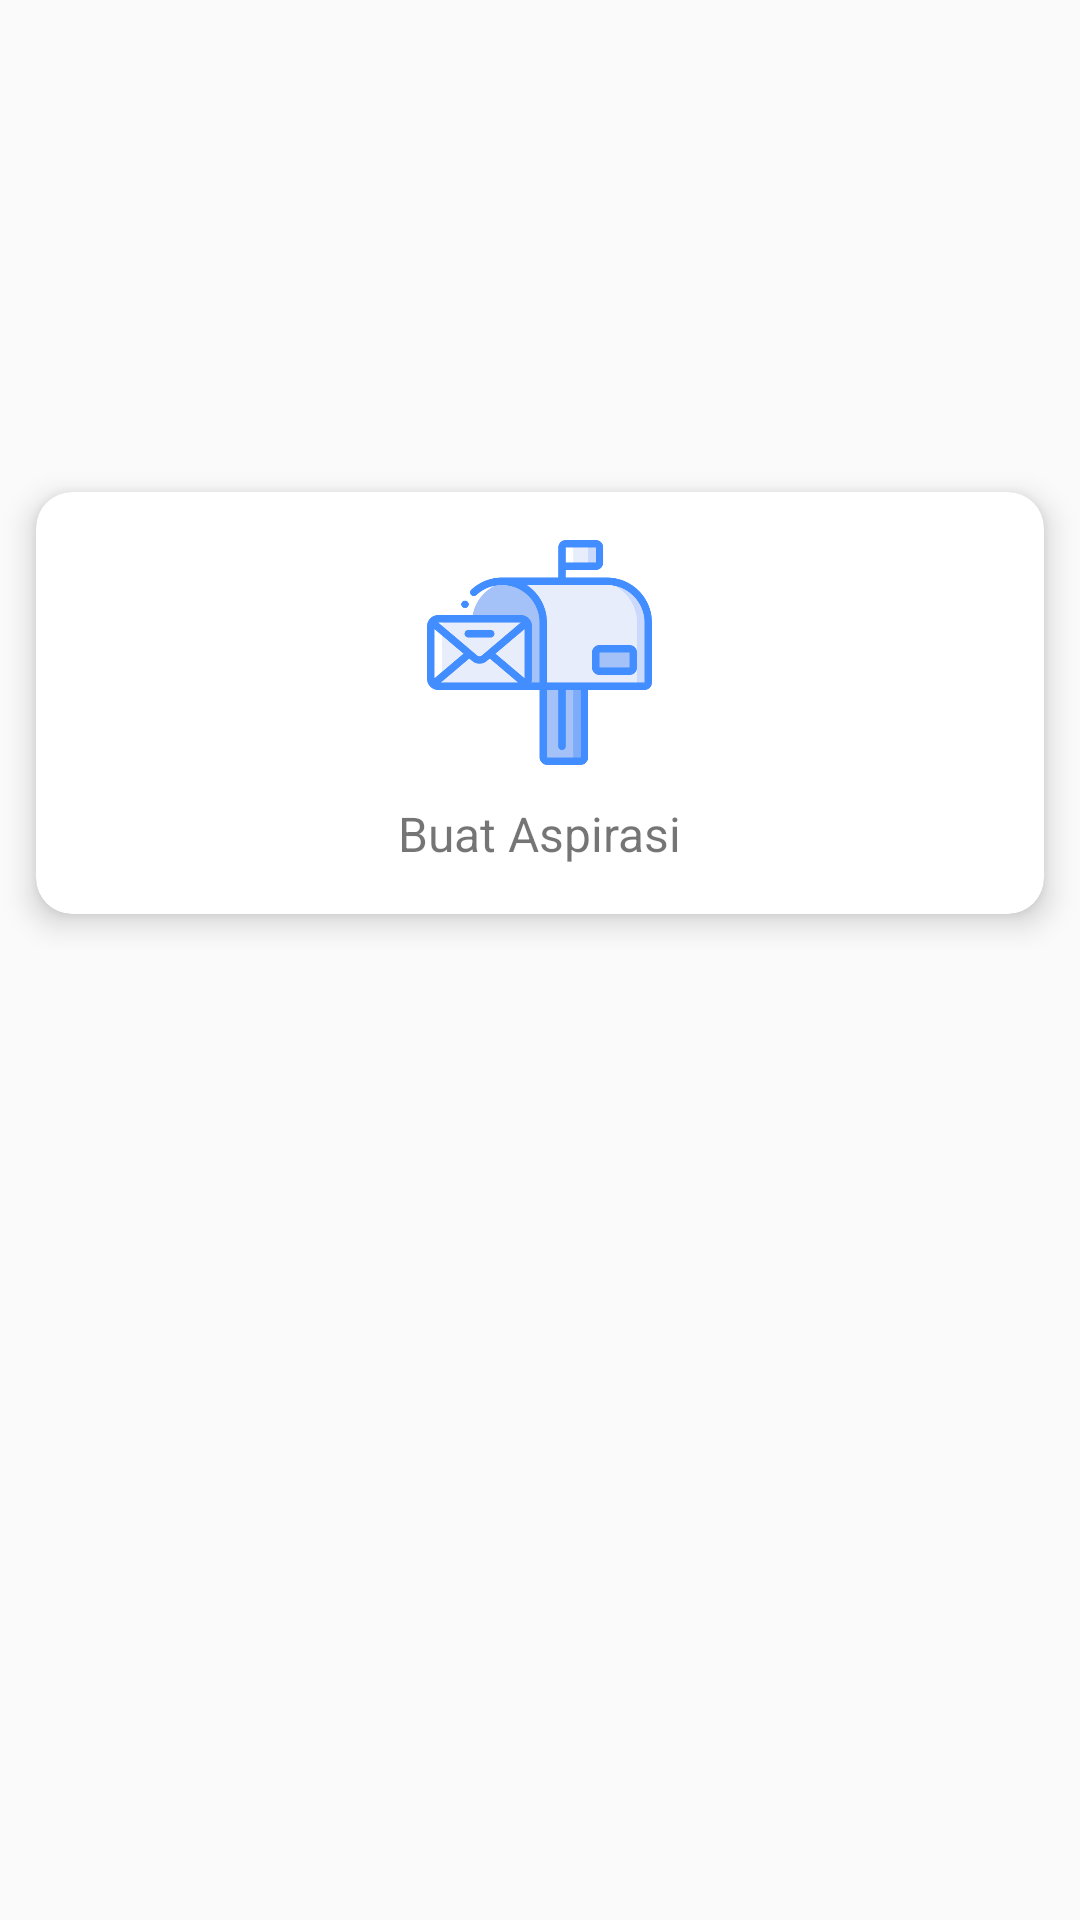

Where to tap for icons on this 1080w x 1920h app screen, as (x=x, y=y):
box: (x=539, y=652)
